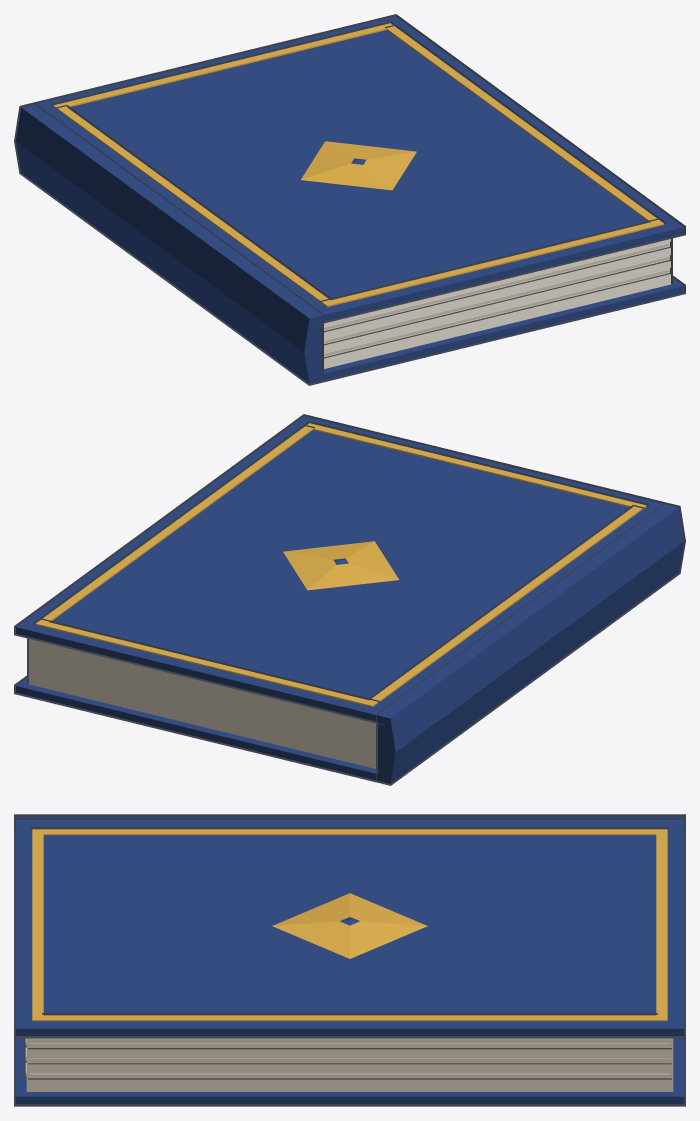
File: popup_book_closed.glb
3 views of the same model, one above another, from view 1: azimuth 30°, elevation 25°; view 2: azimuth 150°, elevation 25°; view 3: azimuth 270°, elevation 25° (orthographic). The views are drawn at different scales.
Visible parts, largest first — view 1: cover_front, spine, cover_back, ink_outline (×3); view 2: cover_front, spine, cover_back, ink_outline (×3); view 3: cover_front, cover_back, ink_outline (×3), spine.
Boxes of the visible parts, box(x1,y1,x2,y2) form: cover_front: box(28, 16, 683, 323); spine: box(16, 105, 321, 383); cover_back: box(315, 239, 683, 382); ink_outline (×3): box(14, 14, 685, 385); cover_front: box(16, 416, 671, 722); spine: box(378, 506, 683, 783); cover_back: box(16, 639, 384, 782); ink_outline (×3): box(14, 414, 685, 785); cover_front: box(15, 820, 684, 1035); cover_back: box(15, 1038, 684, 1104); ink_outline (×3): box(14, 814, 685, 1106); spine: box(15, 816, 684, 823).
Bounding box in the file's own units: 0.1837 × 0.0338 × 0.2412.
